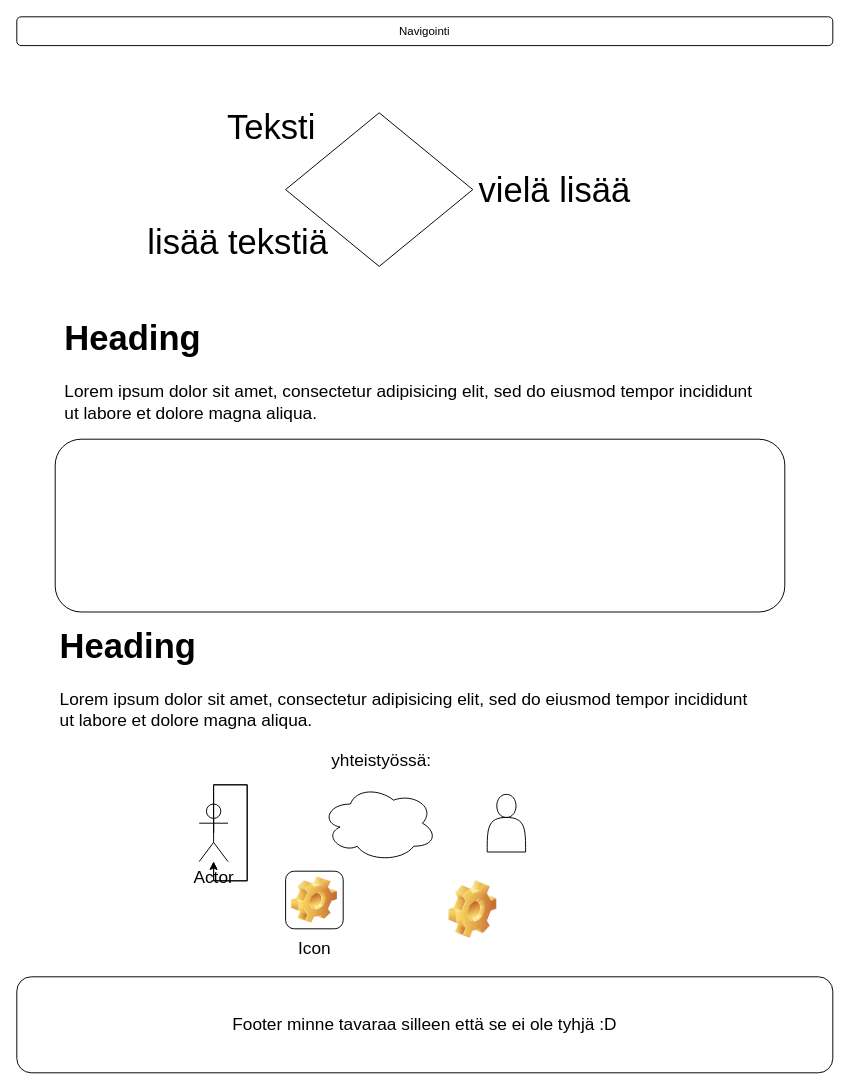
The diagram is 850 pixels wide and 1090 high, and some of its shapes have lost their labels. Each missing label, with the centre of its shape:
Logo: (379,189)
Satunnainen kuva: (419,525)
